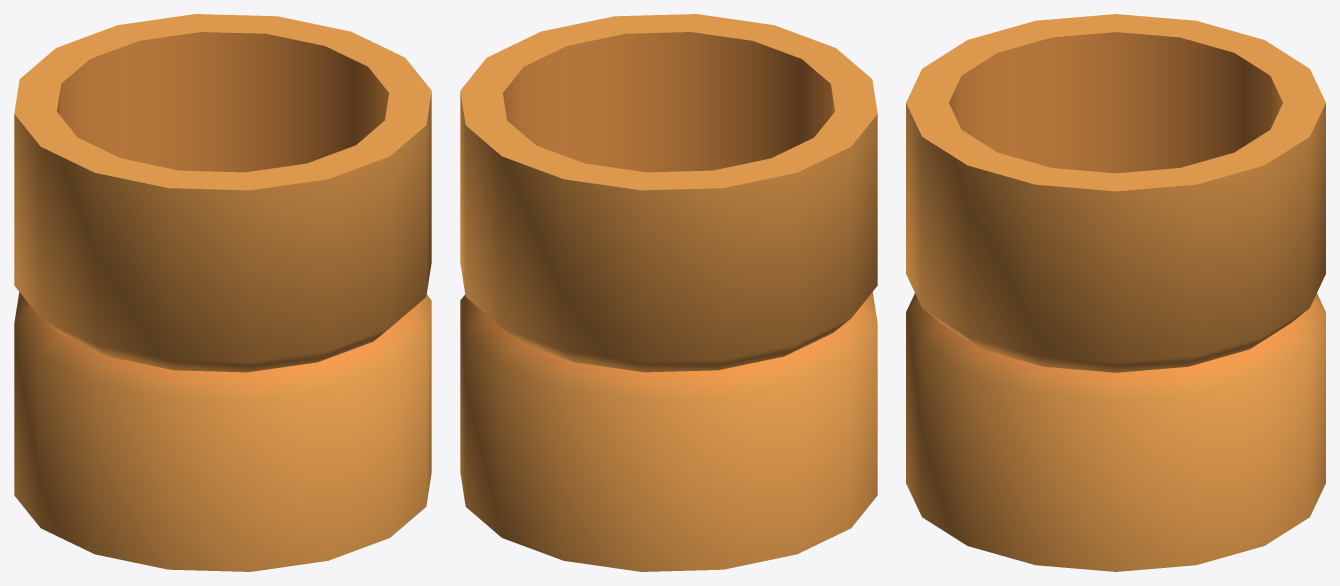
File: kaykit_pipe_straight_B_yellow.glb
The picture shows the model from 3 angles, left to right: view 1: azimuth 30°, elevation 25°; view 2: azimuth 150°, elevation 25°; view 3: azimuth 270°, elevation 25°; orthographic projection.
Visible parts, largest first — view 1: pipe_straight_B_yellow_visual; view 2: pipe_straight_B_yellow_visual; view 3: pipe_straight_B_yellow_visual.
Part boxes in pixels (left/top/right/bottom): pipe_straight_B_yellow_visual: left=14, top=14, right=431, bottom=571; pipe_straight_B_yellow_visual: left=460, top=14, right=877, bottom=571; pipe_straight_B_yellow_visual: left=906, top=14, right=1325, bottom=571.
Size of what is drawn, in the model's own units: 2 by 2 by 2.
1 material, 1 textured.
